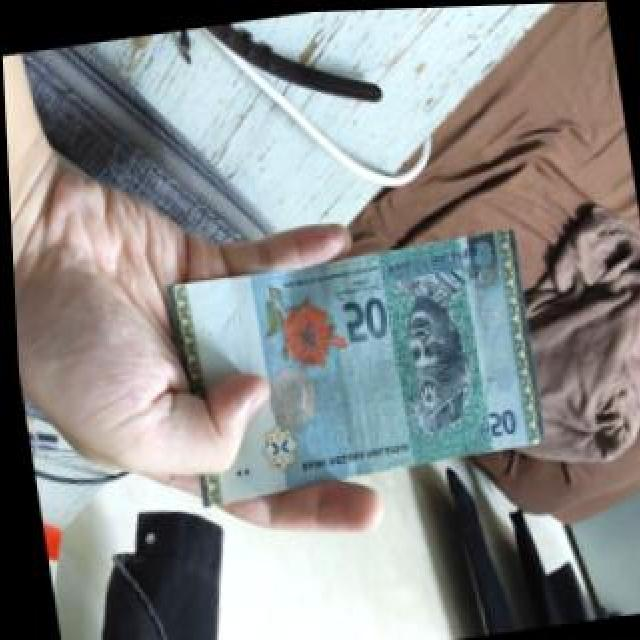50 Ringgit: (159, 230, 548, 505)
